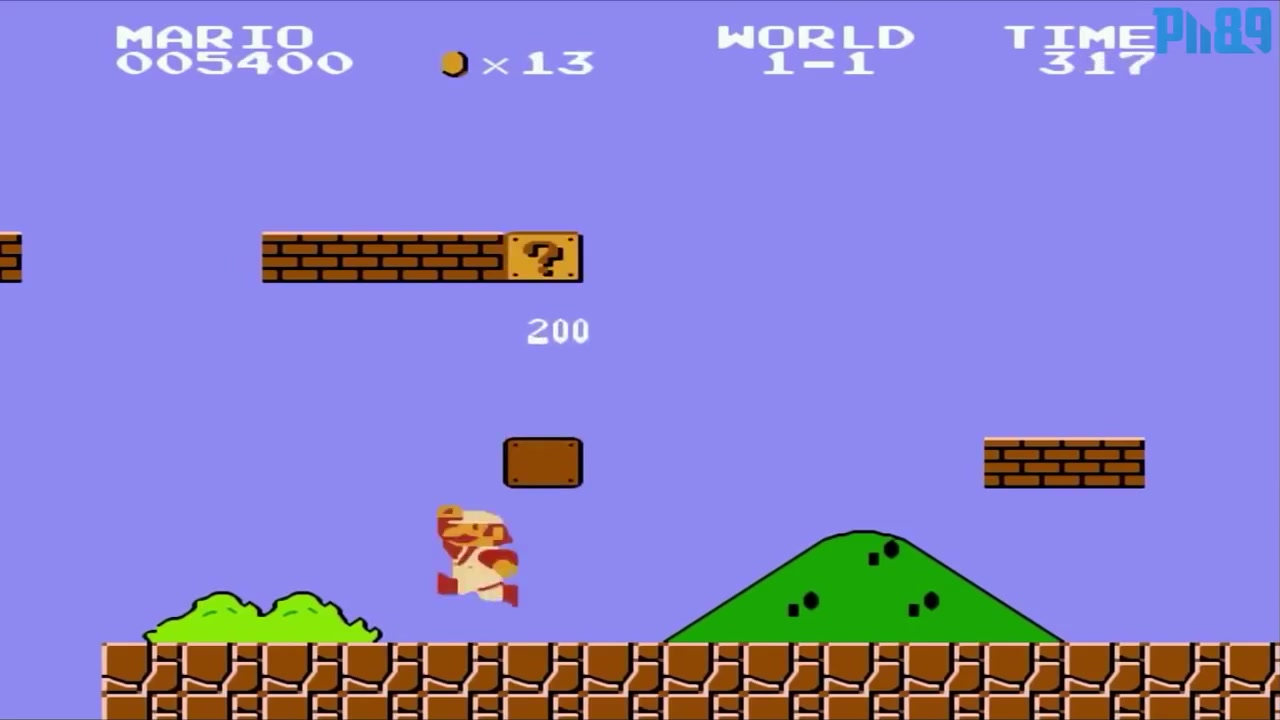mario: (428, 500, 521, 609)
